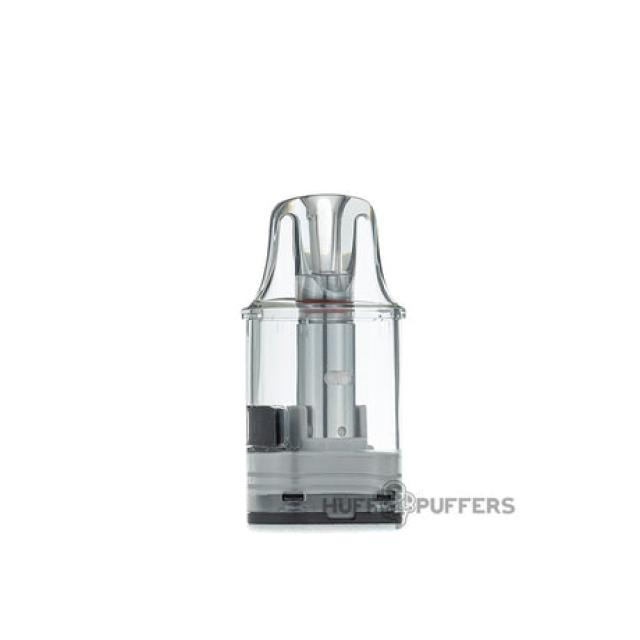Vapes: (239, 192, 408, 527)
